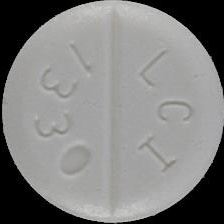0527-1330: (0, 0, 224, 224)
